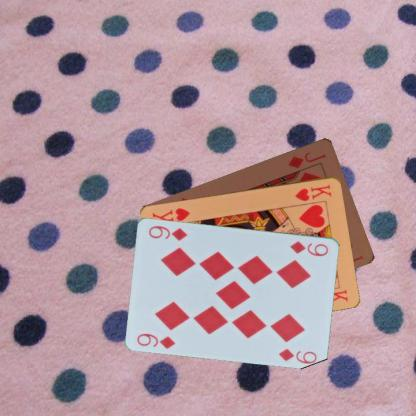9d: (287, 238, 330, 257), (134, 331, 176, 350)
Jd: (286, 148, 328, 170)
Kh: (292, 182, 334, 202)
